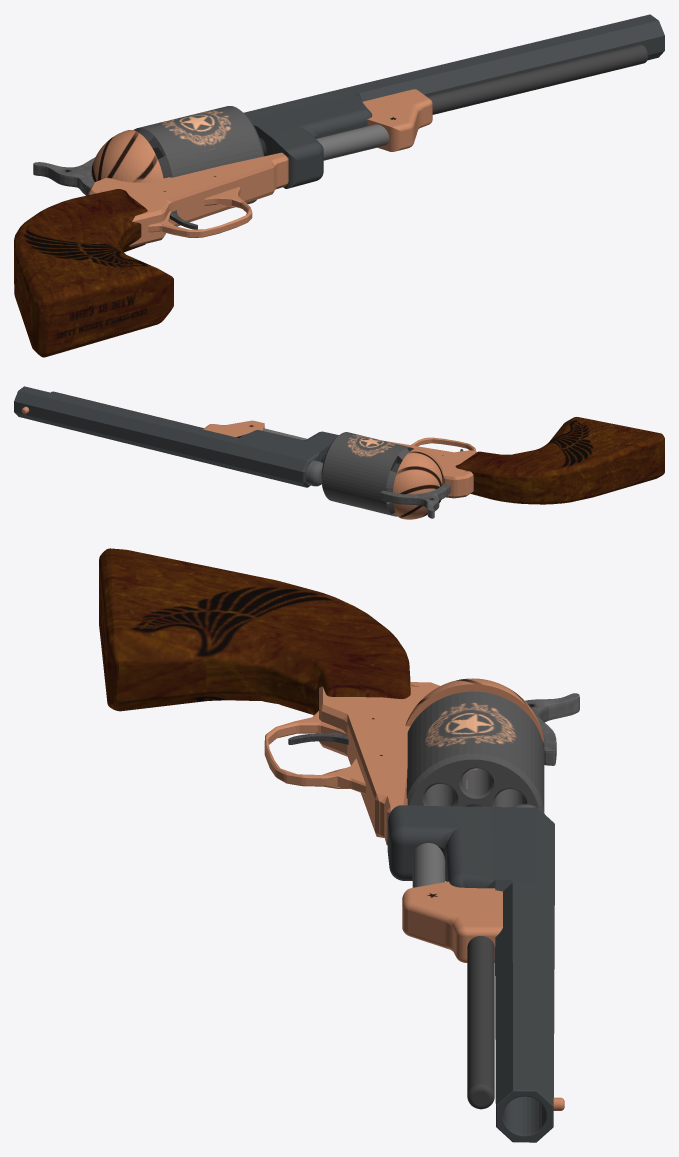
3 views of the same model, one above another, from view 1: azimuth 30°, elevation 25°; view 2: azimuth 150°, elevation 25°; view 3: azimuth 270°, elevation 25° (orthographic). The views are drawn at different scales.
Visible parts, largest first — view 1: AnaKasa; view 2: AnaKasa; view 3: AnaKasa.
Boxes of the visible parts, bbox=[...] form: AnaKasa: bbox=[14, 14, 664, 357]; AnaKasa: bbox=[14, 386, 664, 519]; AnaKasa: bbox=[99, 548, 579, 1142].
Bounding box in the file's own units: 96.46 × 11.14 × 37.2.
Materials: 13 (13 with a texture image).
